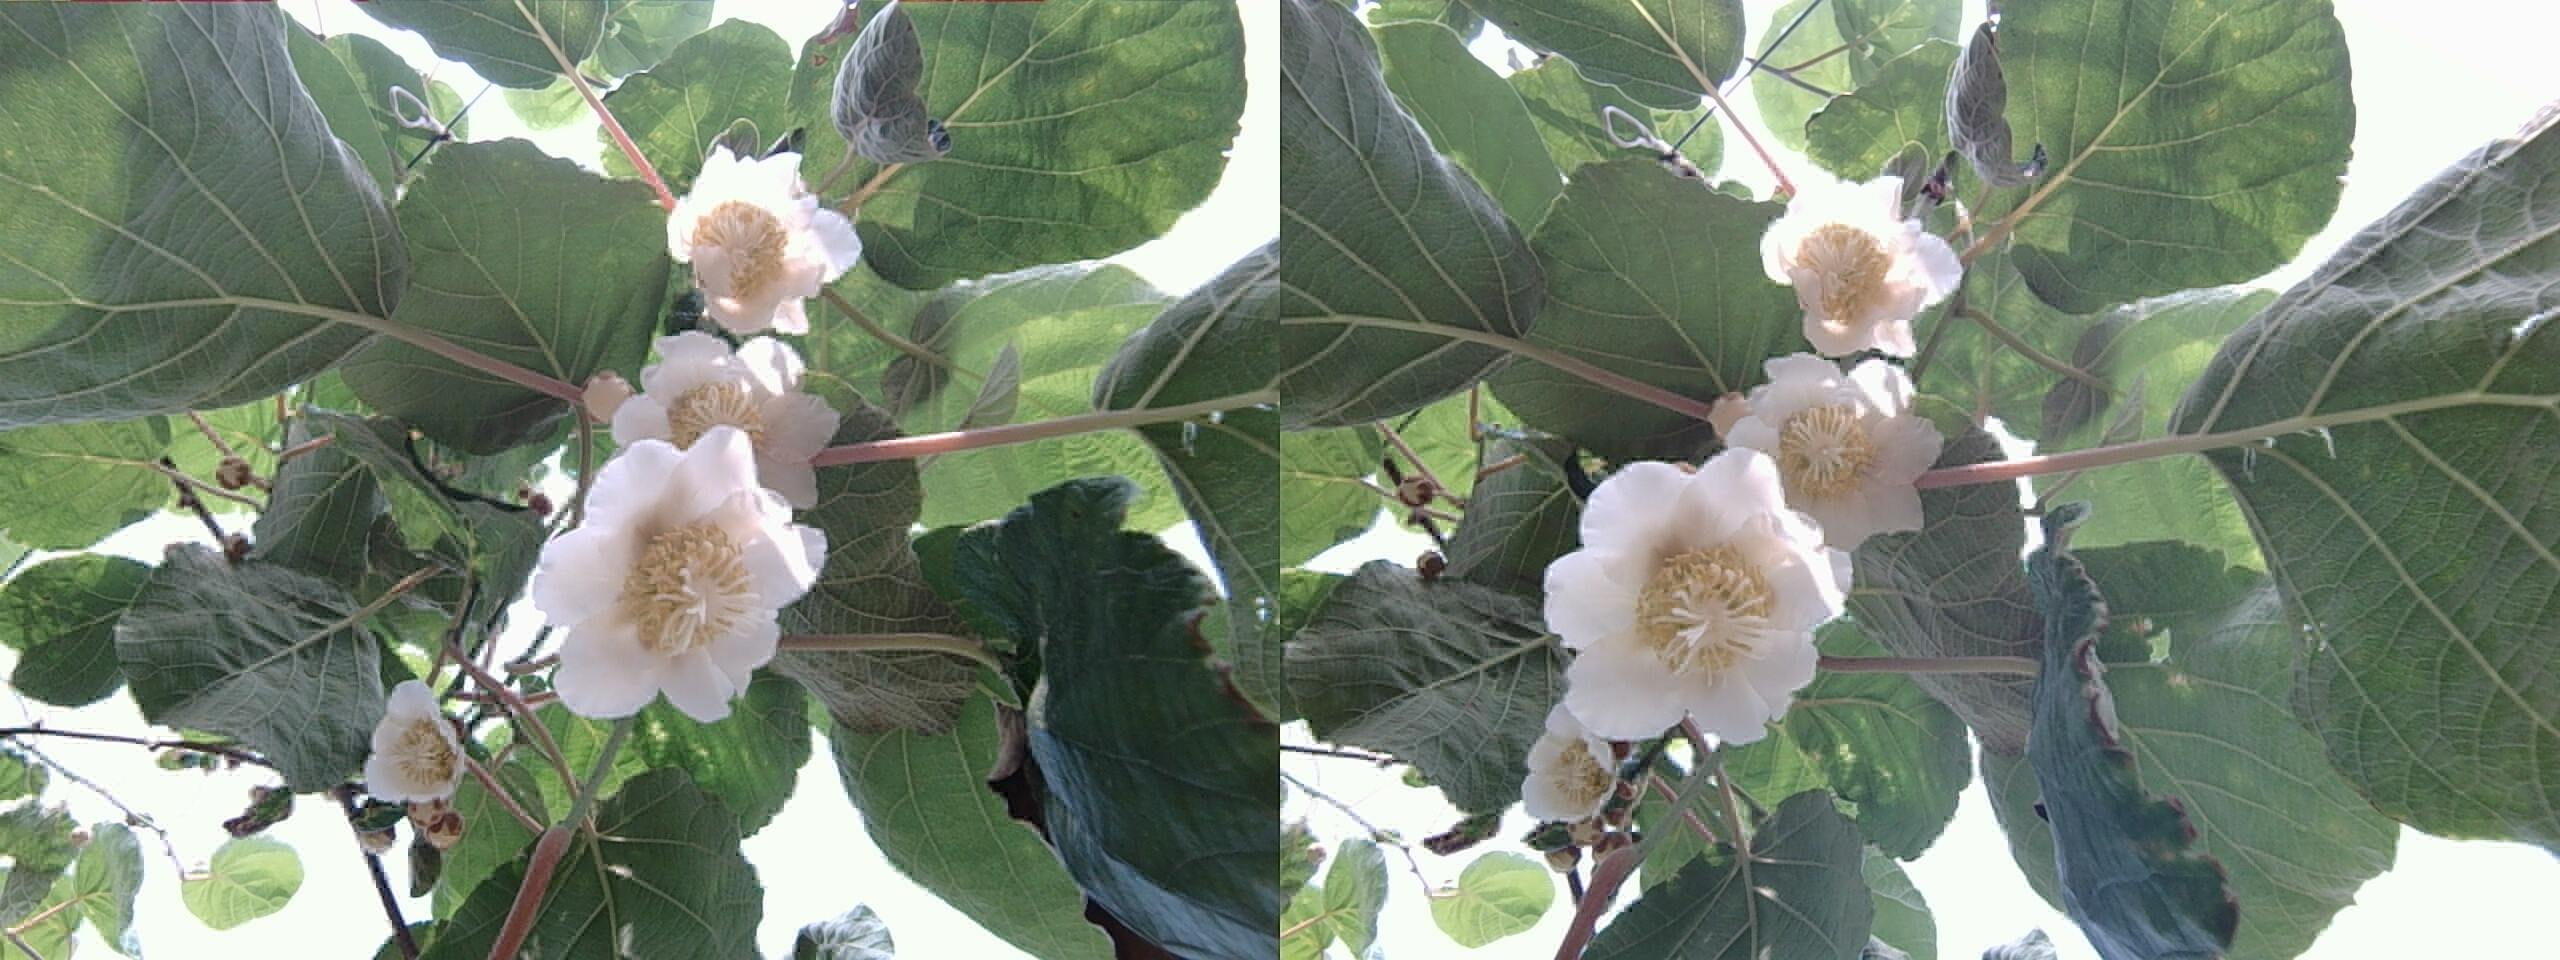flower: (1548, 456, 1842, 748), (529, 428, 811, 722), (1713, 353, 1936, 540), (1753, 170, 1959, 359), (658, 139, 854, 335), (624, 343, 818, 491), (359, 681, 464, 821)
